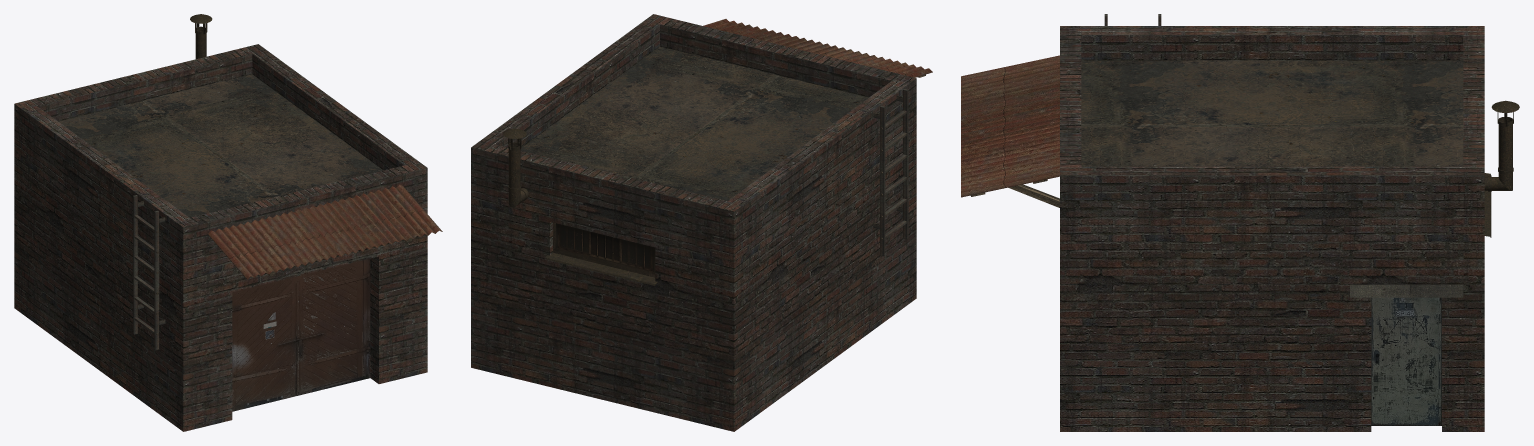
File: garage_hm_2.obj
3 views of the same model, side by side, from view 1: azimuth 30°, elevation 25°; view 2: azimuth 150°, elevation 25°; view 3: azimuth 270°, elevation 25° (orthographic). The views are drawn at different scales.
Visible parts, largest first — view 1: garage_hm_2; view 2: garage_hm_2; view 3: garage_hm_2.
Boxes of the visible parts, left/top/right/bottom form: garage_hm_2: left=14, top=14, right=442, bottom=431; garage_hm_2: left=471, top=14, right=932, bottom=431; garage_hm_2: left=961, top=14, right=1519, bottom=431.
Bounding box in the file's own units: 5.22 × 4.7 × 7.9.
